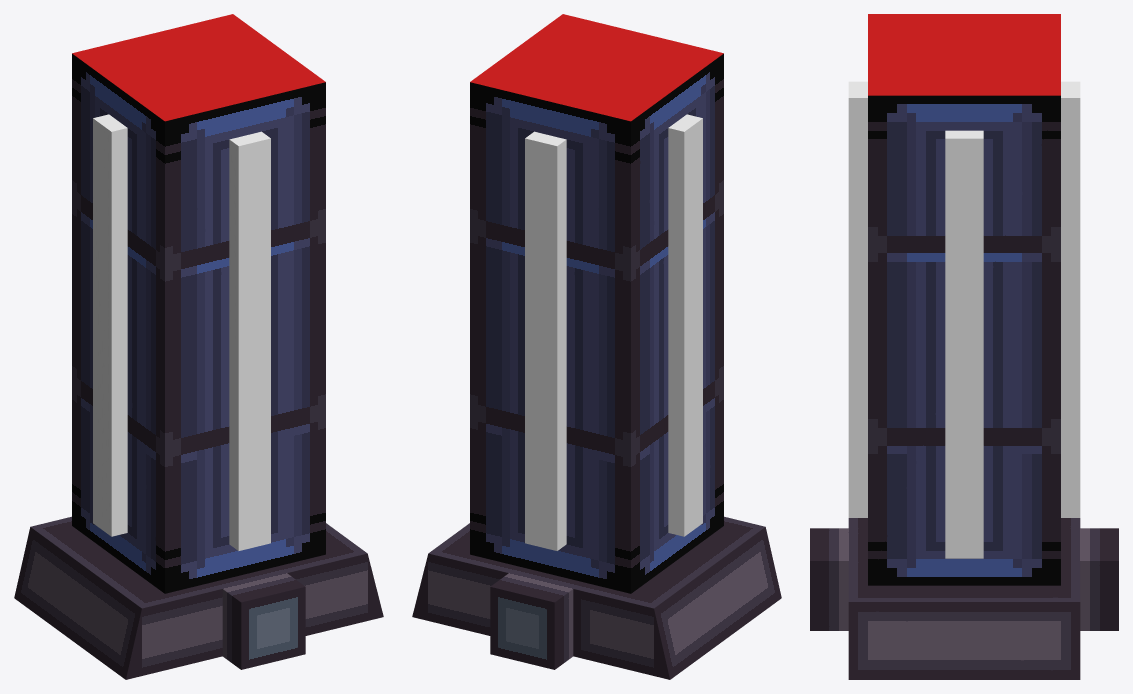
Rendered from Pillar.gltf.
The picture shows the model from 3 angles, left to right: view 1: azimuth 30°, elevation 25°; view 2: azimuth 150°, elevation 25°; view 3: azimuth 270°, elevation 25°; orthographic projection. The views are drawn at different scales.
Parts seen in each view (by area): view 1: Main, Bottom, LightBar2, LightBar; view 2: Main, Bottom, LightBar2, LightBar; view 3: Main, Bottom, LightBar2, LightBar.
Boxes of the visible parts, x1,y1,x2,y2 form: Main: (72,14,325,593); Bottom: (14,516,383,679); LightBar2: (229,131,270,550); LightBar: (93,114,127,536); Main: (470,14,723,593); Bottom: (412,516,781,679); LightBar2: (525,131,566,550); LightBar: (668,114,702,536); Main: (868,14,1060,585); Bottom: (810,518,1118,679); LightBar2: (848,81,1080,517); LightBar: (945,130,983,558).
Size of the model in its own units: 1 by 2 by 1.
1 material, 1 textured.
